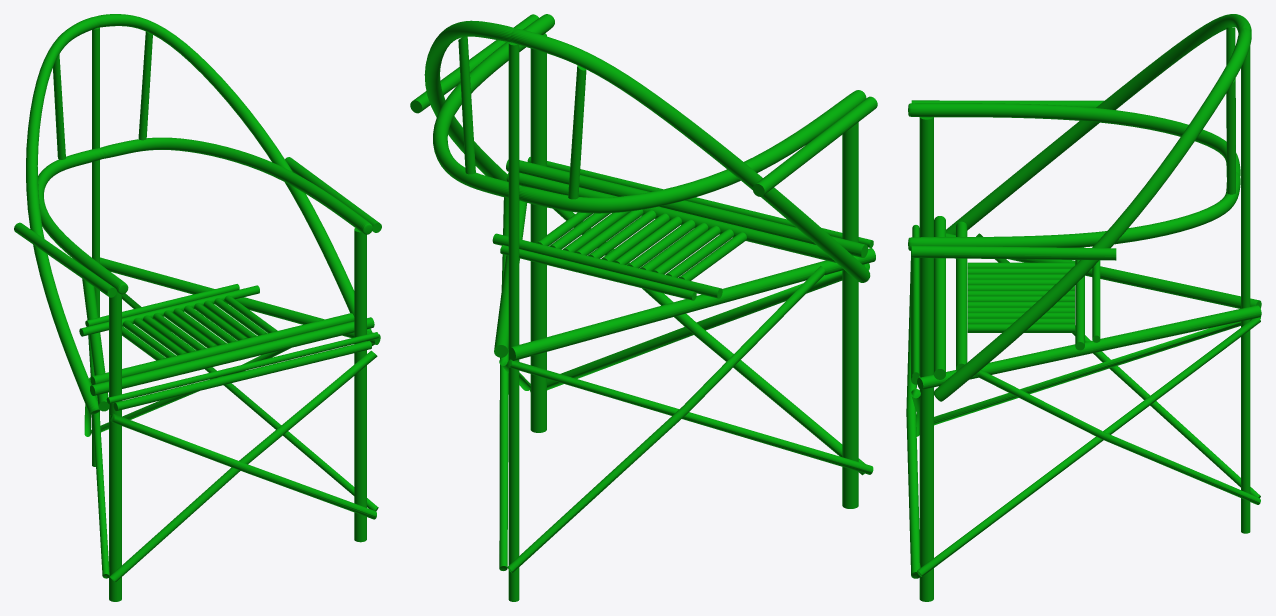
The model's file is uploads_files_3993850_Chair.glb.
3 views of the same model, side by side, from view 1: azimuth 30°, elevation 25°; view 2: azimuth 150°, elevation 25°; view 3: azimuth 270°, elevation 25° (orthographic). The views are drawn at different scales.
Parts seen in each view (by area): view 1: Cylinder; view 2: Cylinder; view 3: Cylinder.
Part boxes in pixels (x1,y1,x2,y2): Cylinder: [14, 14, 381, 601]; Cylinder: [410, 14, 877, 601]; Cylinder: [906, 14, 1261, 601].
Bounding box in the file's own units: 3 × 4.49 × 2.87.
